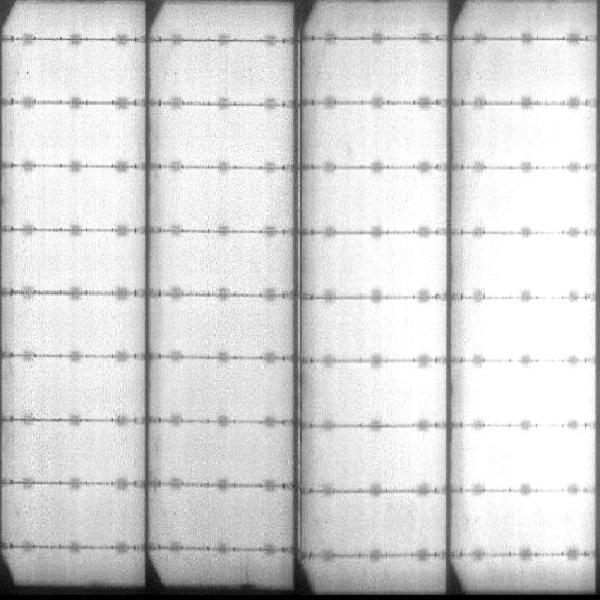hot_spot: (478, 495, 590, 548), (473, 368, 583, 419), (468, 308, 587, 355), (474, 434, 587, 478), (476, 243, 584, 285), (490, 180, 588, 226)
